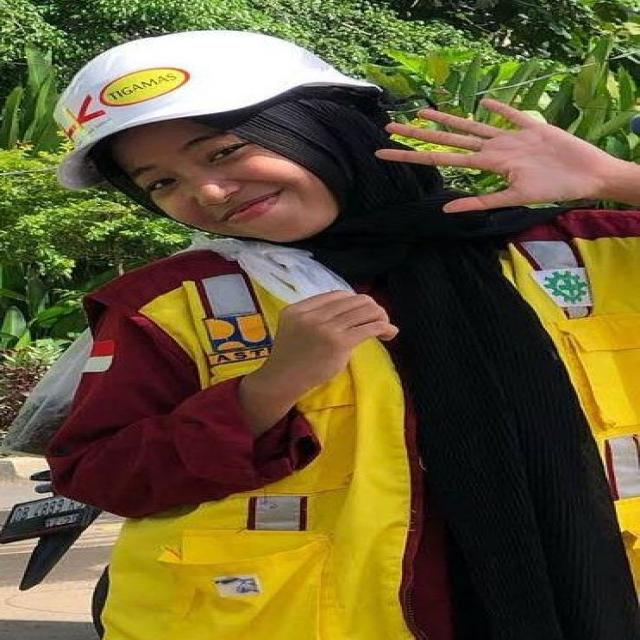safetyhelmet: (53, 26, 411, 204)
